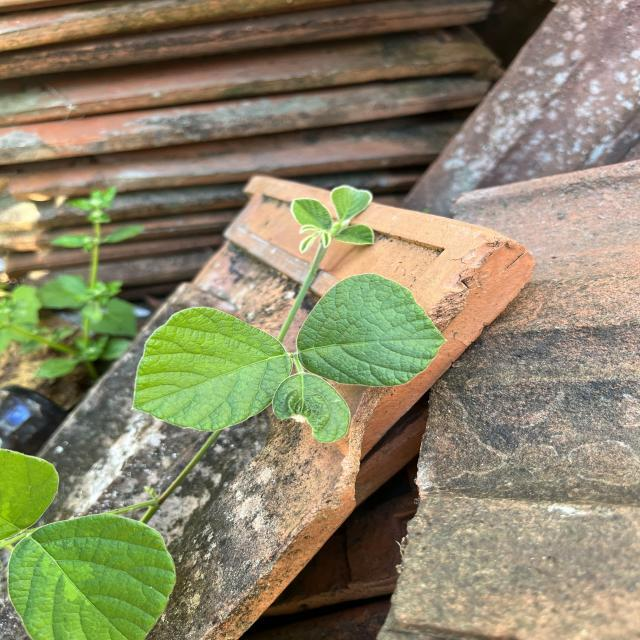Pseudarthria viscida: (132, 270, 452, 444)
